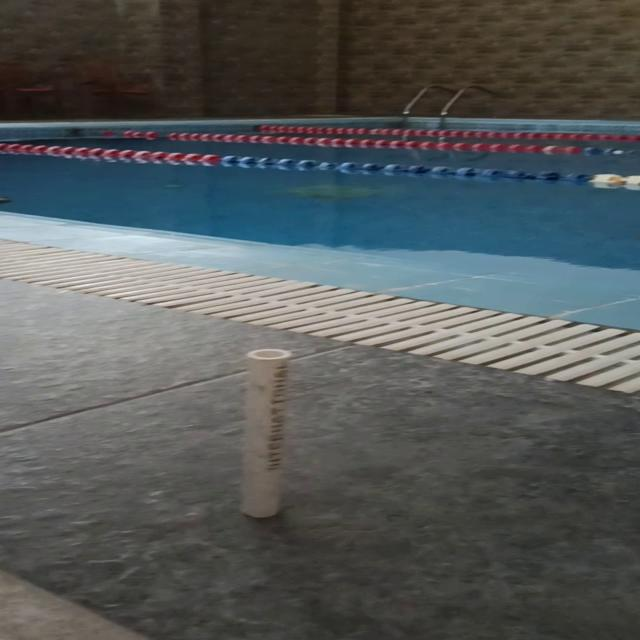Cube: (238, 348, 292, 518)
